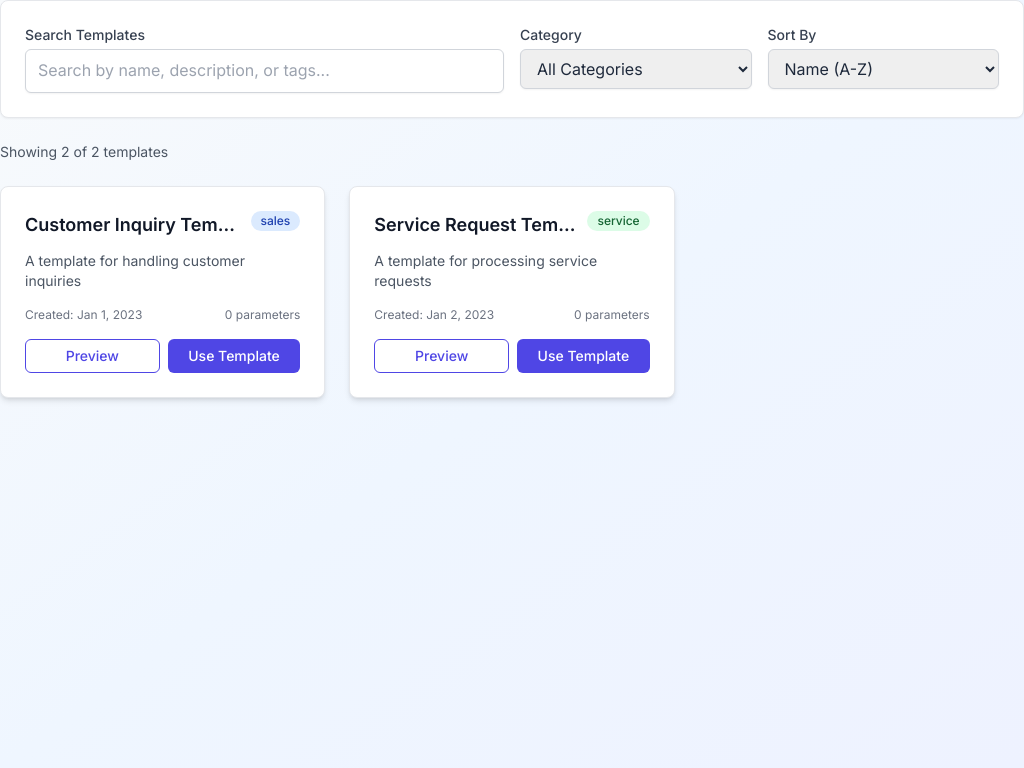
Test: TemplateLibrary › clears filters when clear button is clicked
Expected: the heading "Customer Inquiry Template" is shown, [25, 211, 242, 239]
Type "customer" into the field with placeholder "Search by name, description, or tags...".
click(264, 71); type("customer")  # box [25, 49, 504, 93]
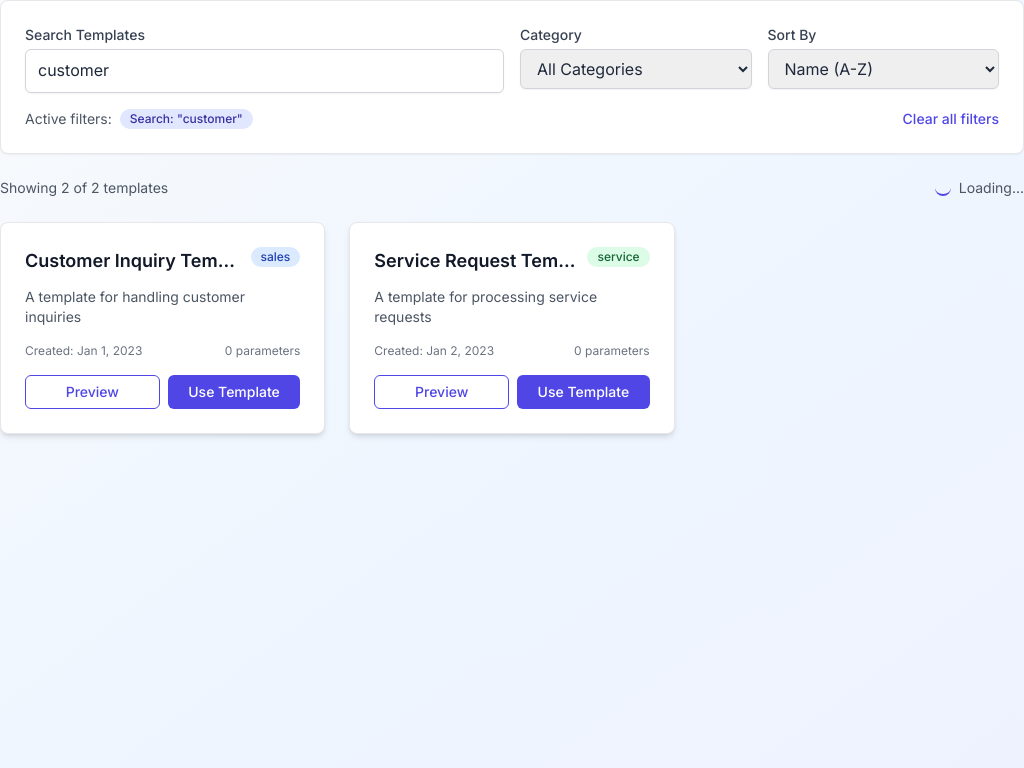
Select "Sales" in the dropdown labelled "Category" at (636, 69), box [520, 49, 752, 89]
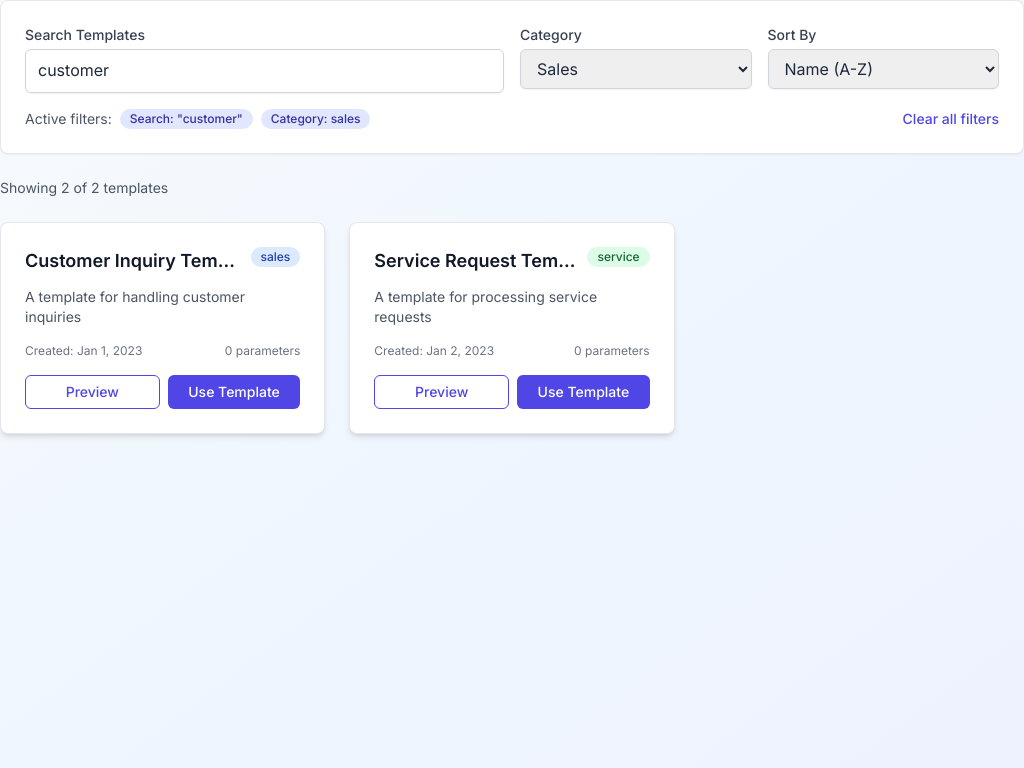
Expected: the button "Clear all filters" is shown
Clear filters
Click the button "Clear all filters".
click(951, 119)  # box [903, 109, 999, 129]
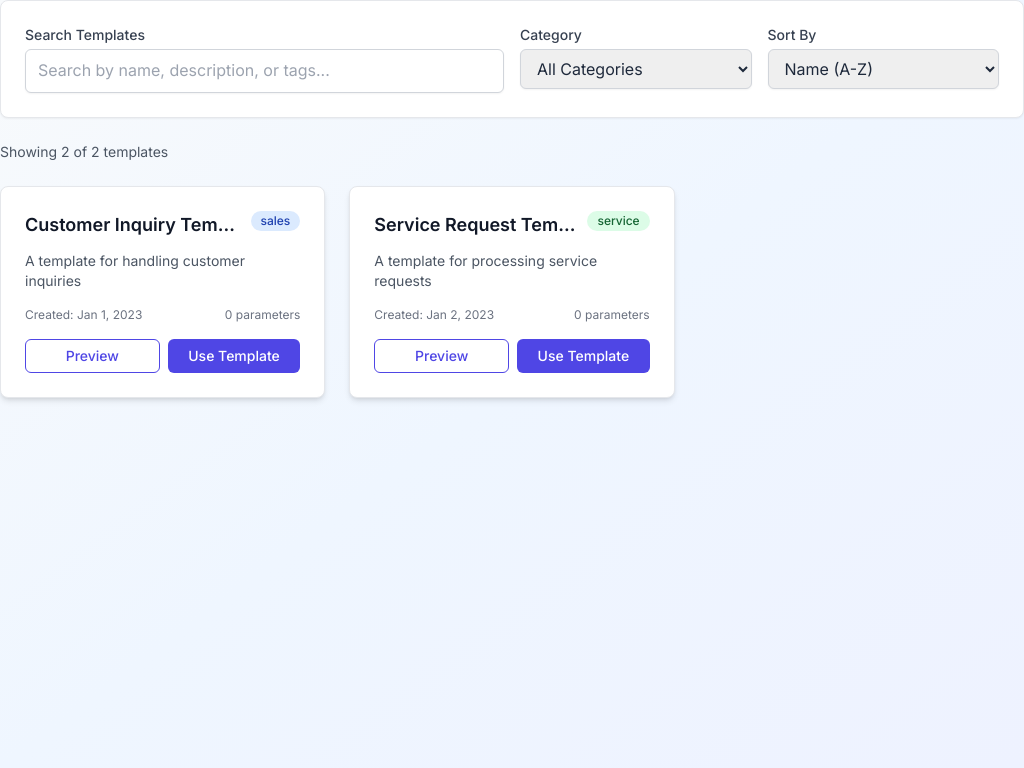
Expected: the field with placeholder "Search by name, description, or tags..." is empty, [25, 49, 504, 93]
